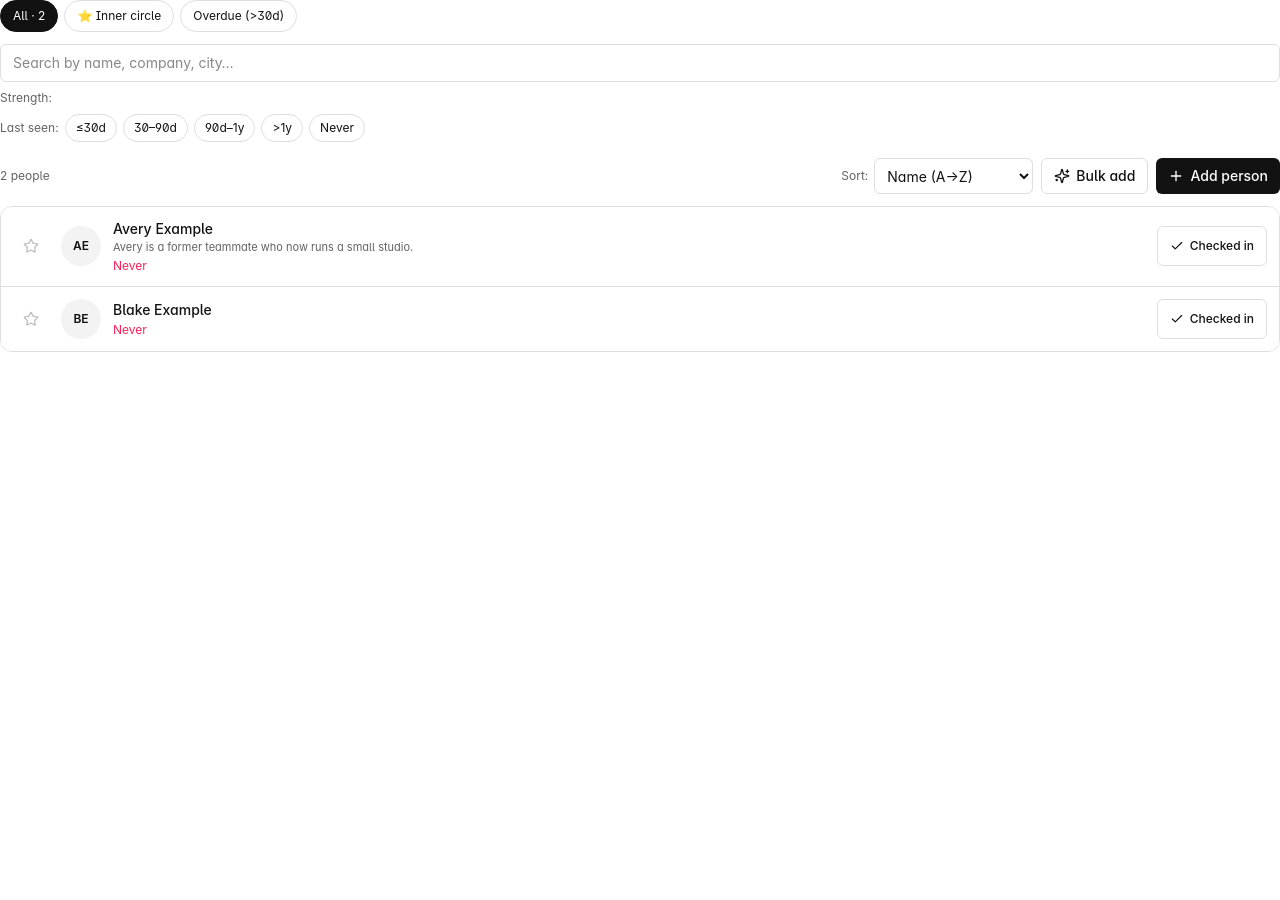
Scenario: friends list AI context › renders a read-only Context card in the editor
Click the button that starts with "Avery". click: (132, 228)
box: [113,219,1145,274]
(page scrolled)
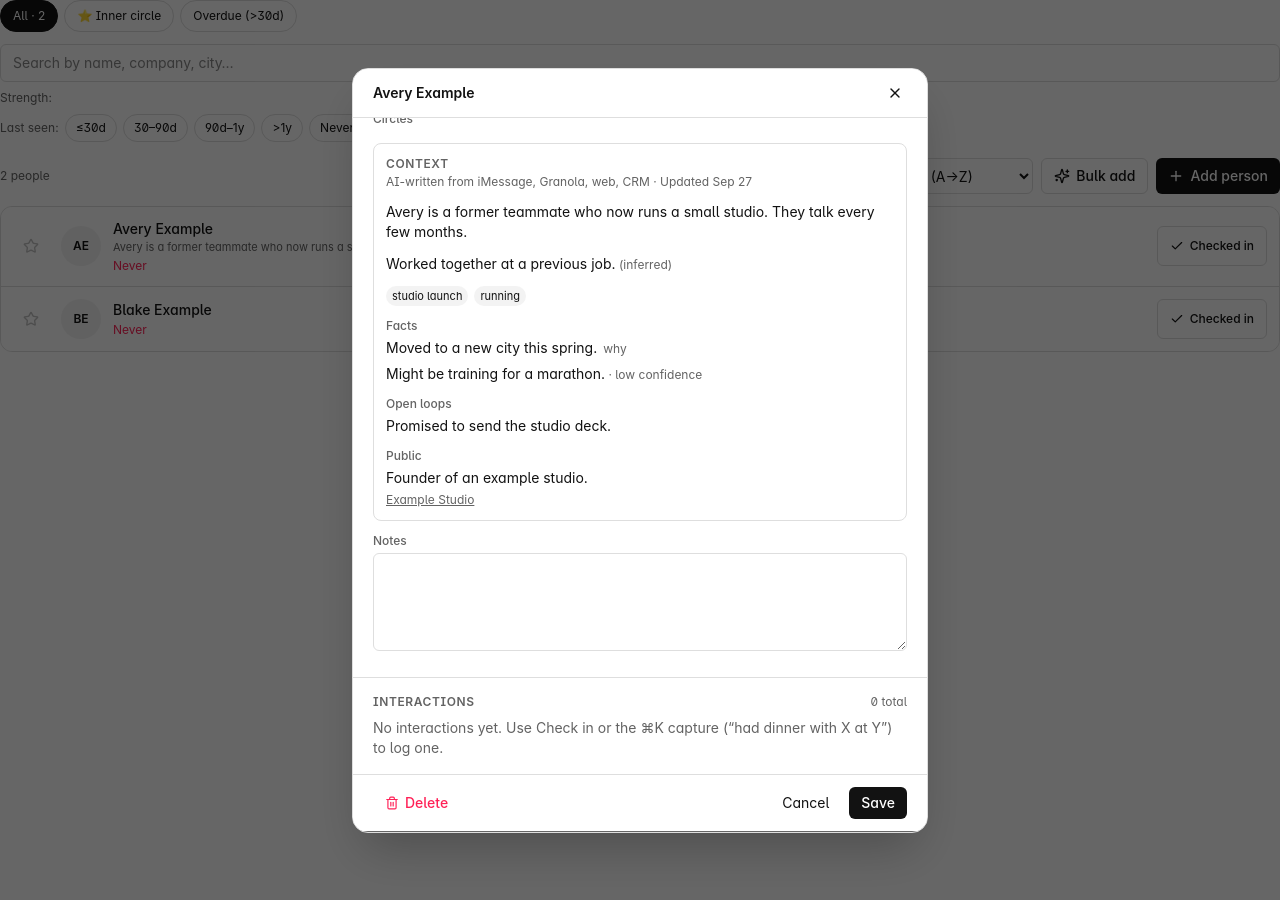
Now the element named "Context" is shown, box [373,142,907,521]
Now the text with test id "context-meta" shows "AI-written from iMessage, Granola, web, CRM", box [386,174,752,188]
Now the element named "Context" shows "They talk every few months.", box [386,202,875,240]
